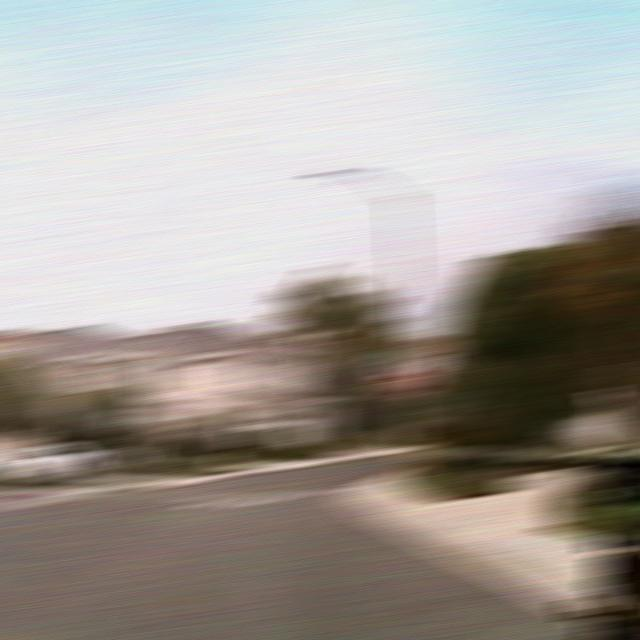stop_sign: (390, 368, 428, 395)
